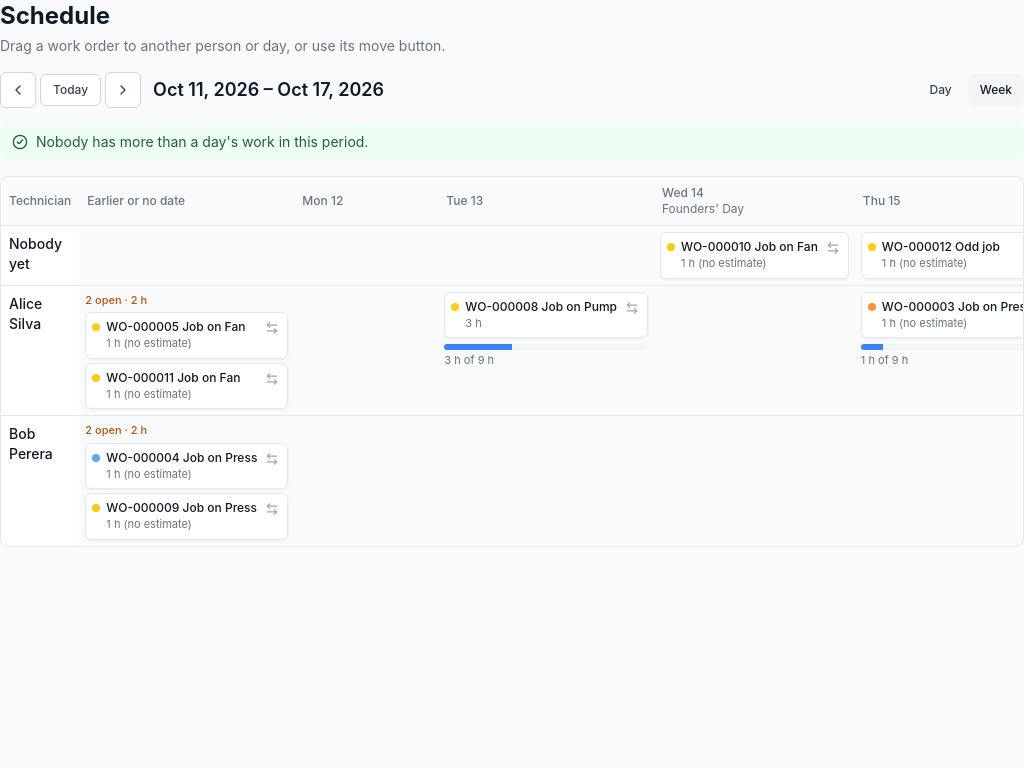
Test case: the schedule › the move button, for those who cannot drag › moves a work order to the person and day chosen
The image size is (1024, 768).
Expected: the column heading "Alice Silva" is shown, [1,285,79,416]
Click the button named "Move WO-000008".
click(632, 308)  # box [623,298,641,316]
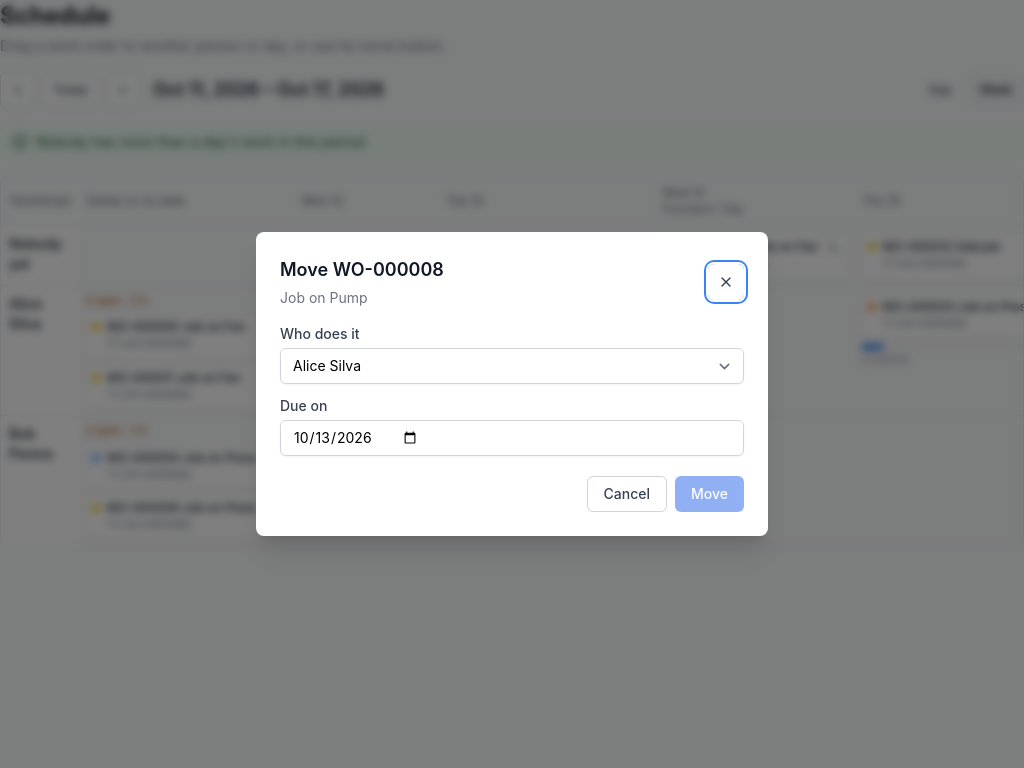
Select "Bob Perera" in the dropdown labelled "Who does it" at coordinates (512, 366), box [280,348,744,384]
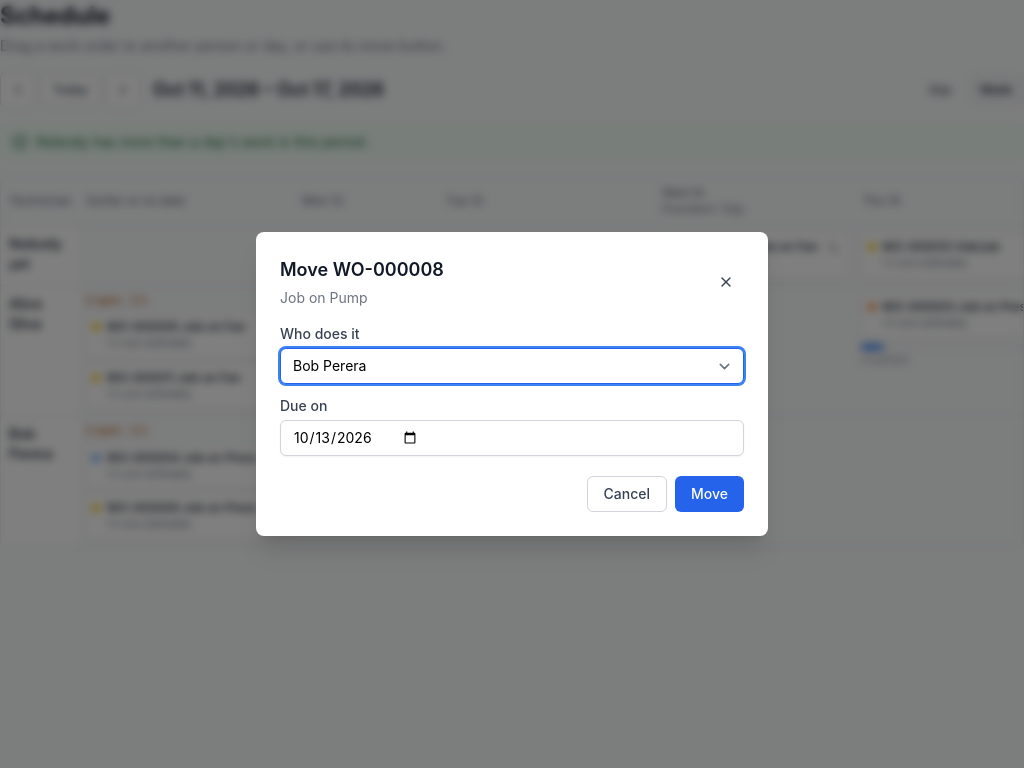
Type "2026-10-16" into the date field labelled "Due on".
click(512, 438); type("2026-10-16")  # box [280,420,744,456]
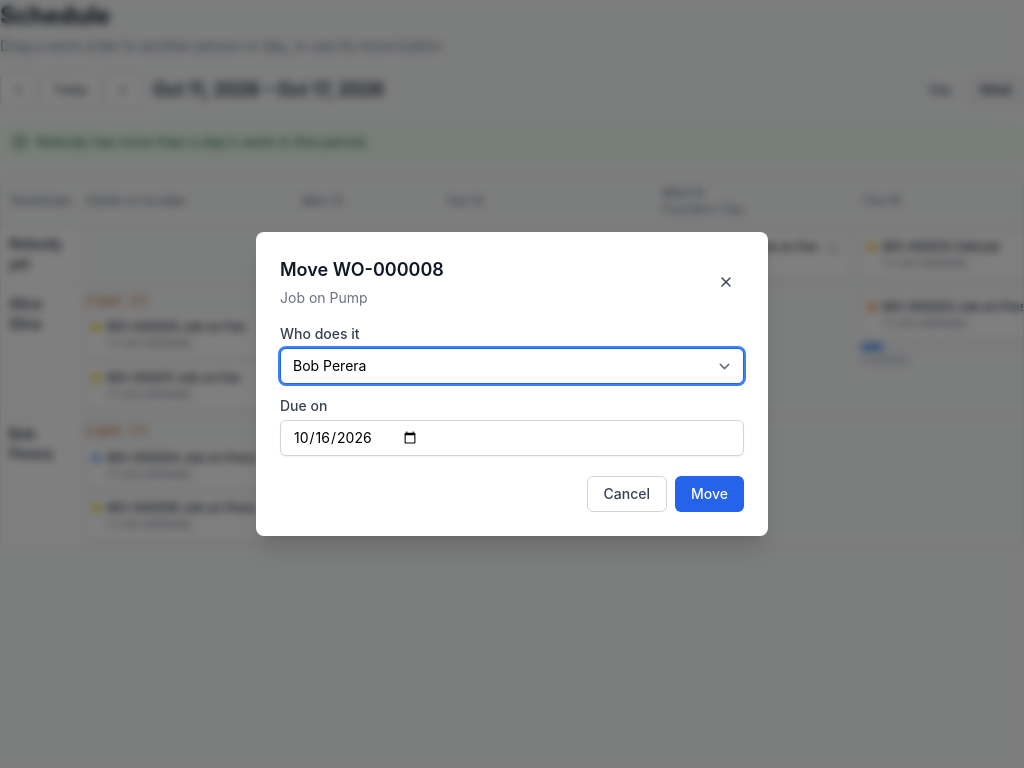
Click the button "Move".
click(710, 494)  # box [675,476,744,512]
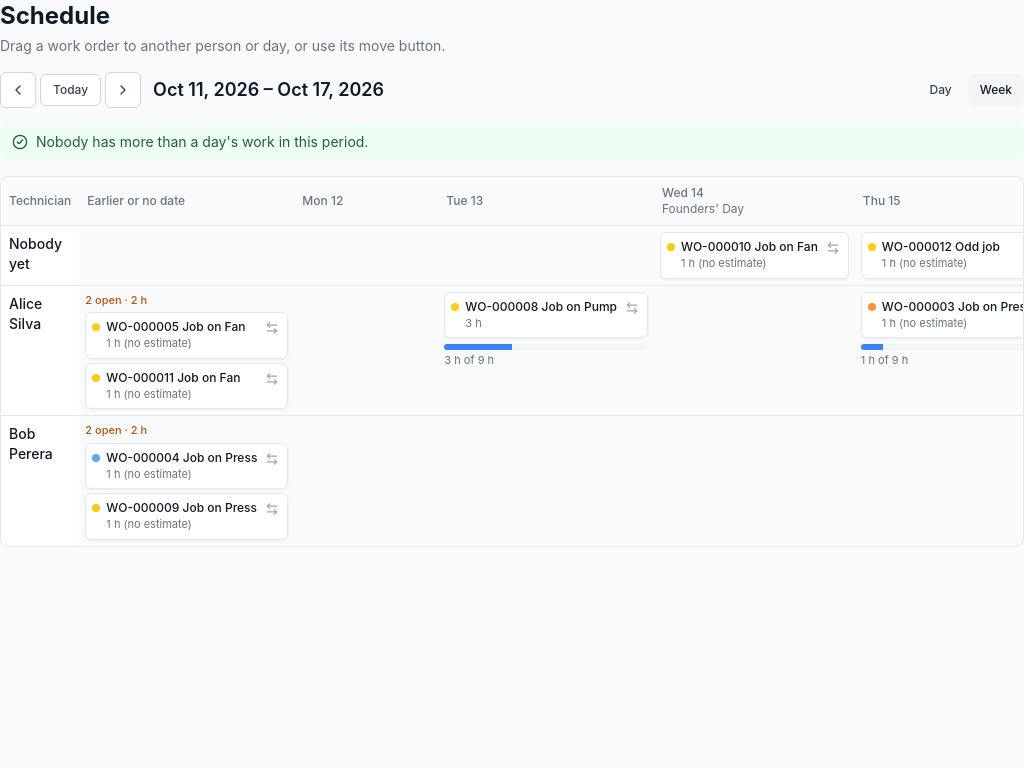
Result: the dialog is gone
